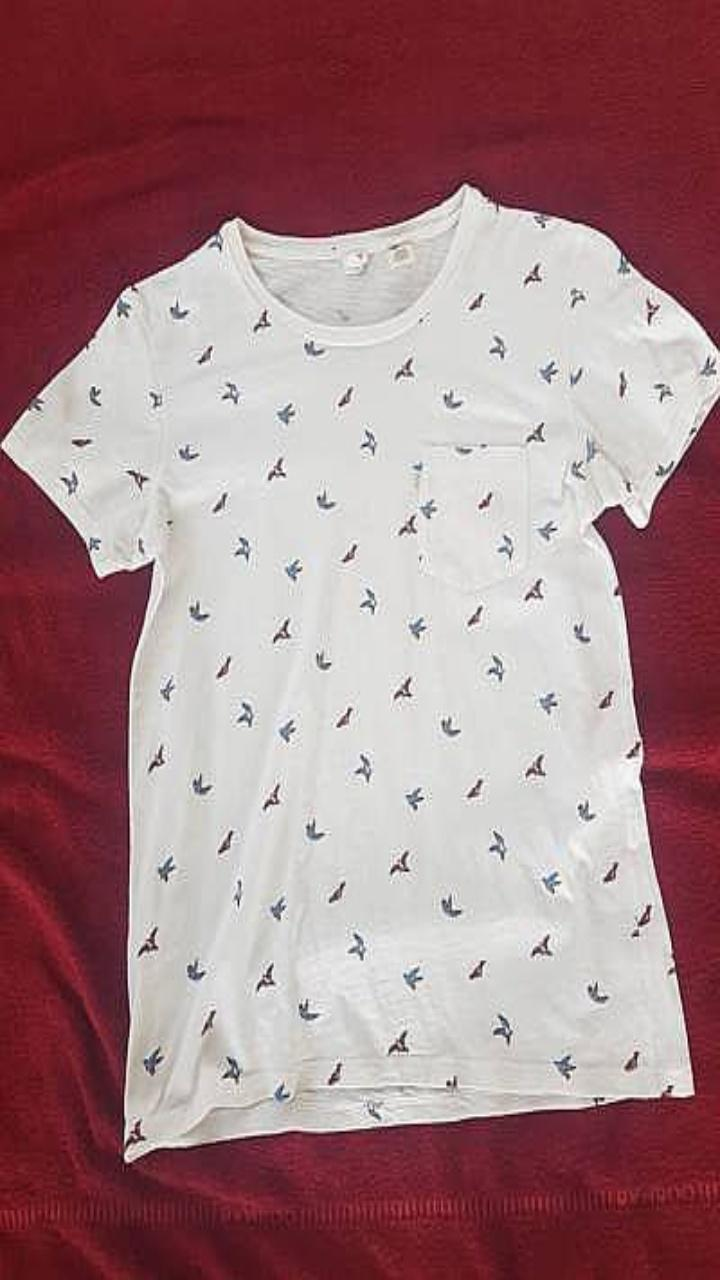T-Shirt: (2, 183, 719, 1161)
